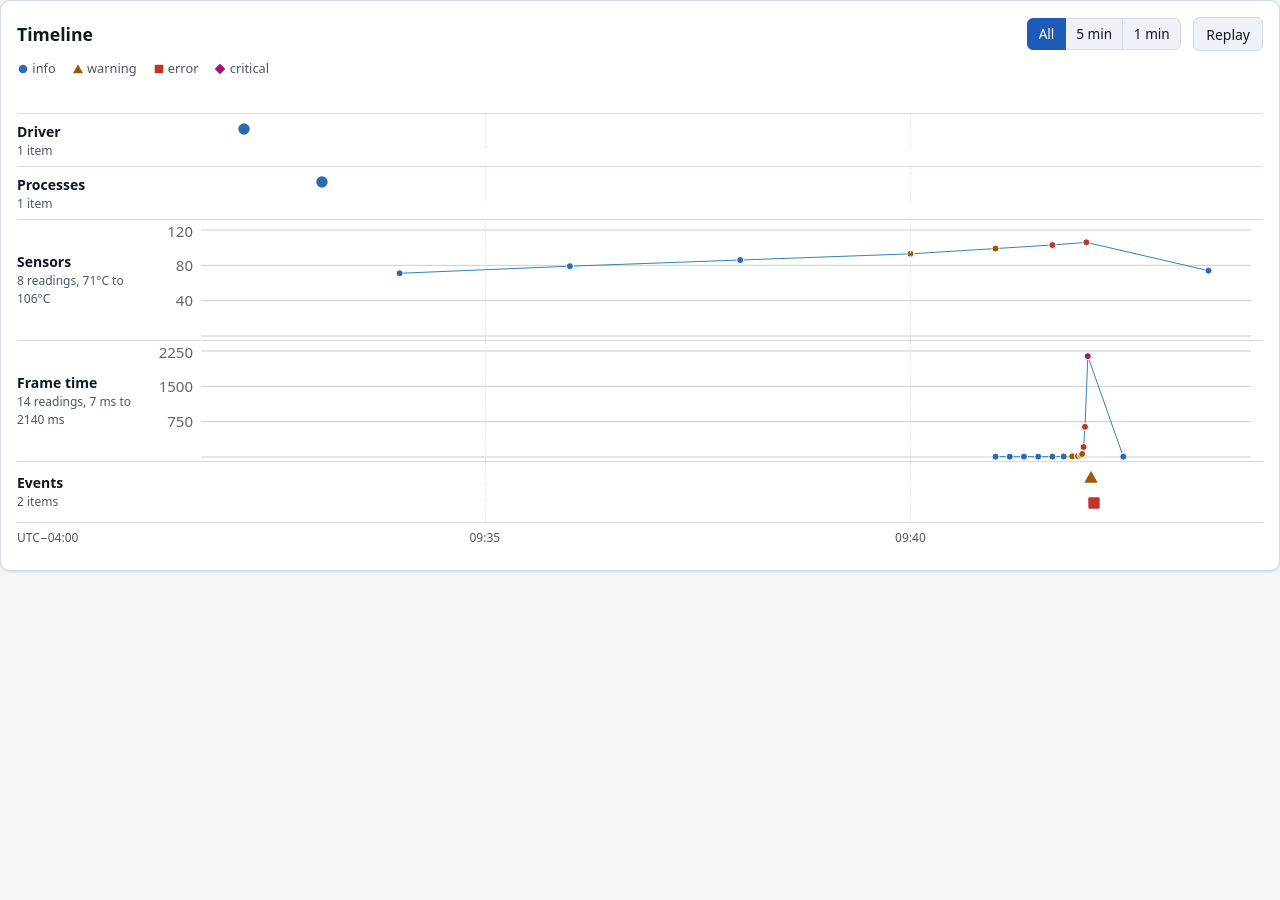
Test: <Timeline> › shows label, detail and evidence id in a tooltip on hover
Hover over the button named "LiveKernelEvent 141 (VIDEO_ENGINE_TIMEOUT_DETECTED), error,": [1094, 503] box x1=1082 y1=492 x2=1106 y2=514
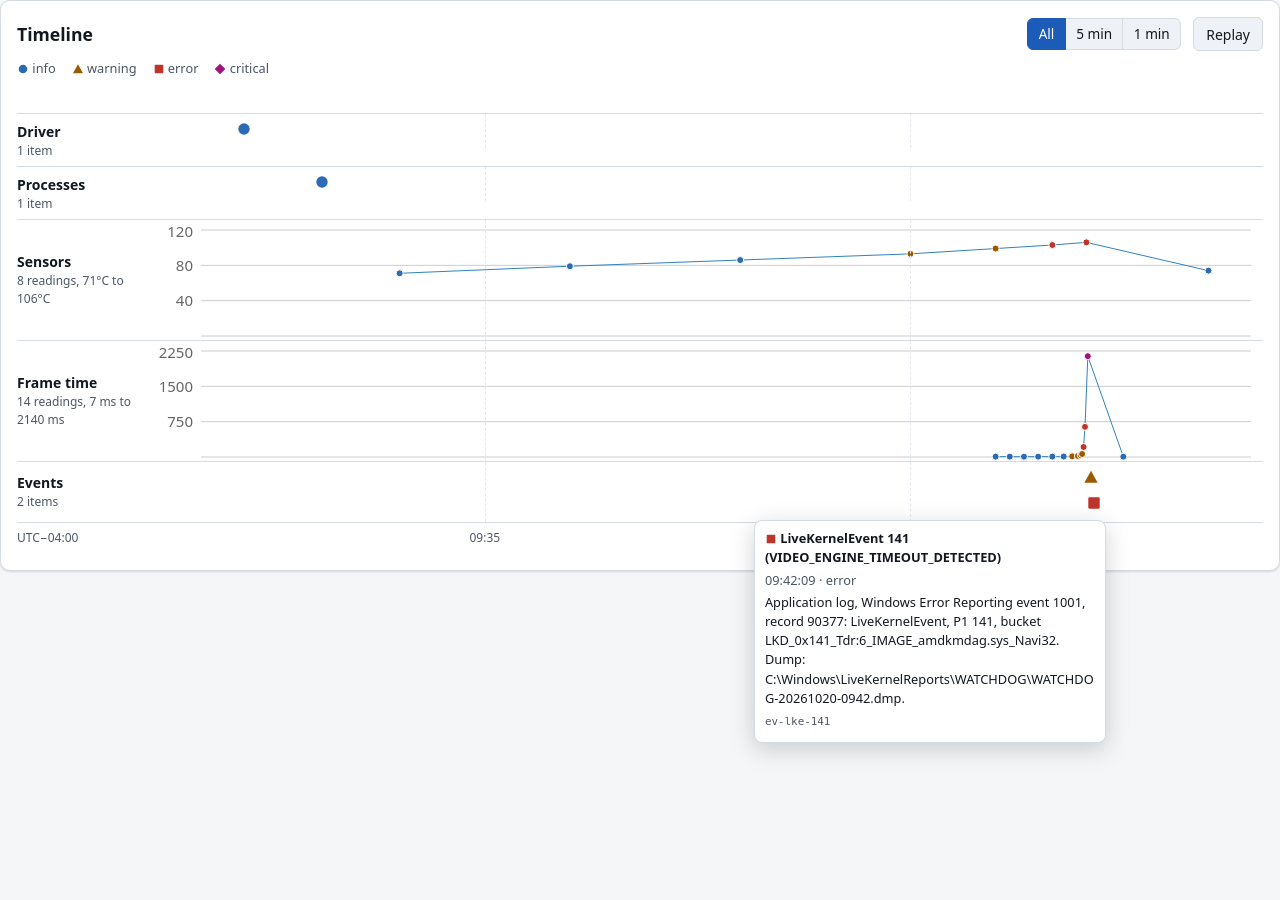
Check: the tooltip shows "LiveKernelEvent 141 (VIDEO_ENGINE_TIMEOUT_DETECTED)", box x1=765 y1=529 x2=1001 y2=566
Check: the tooltip shows "Windows Error Reporting event 1001", box x1=765 y1=593 x2=1094 y2=707
Check: the tooltip shows "ev-lke-141", box x1=765 y1=715 x2=830 y2=728
Move the pointer off the button named "LiveKernelEvent 141 (VIDEO_ENGINE_TIMEOUT_DETECTED), error,", box x1=1082 y1=492 x2=1106 y2=514
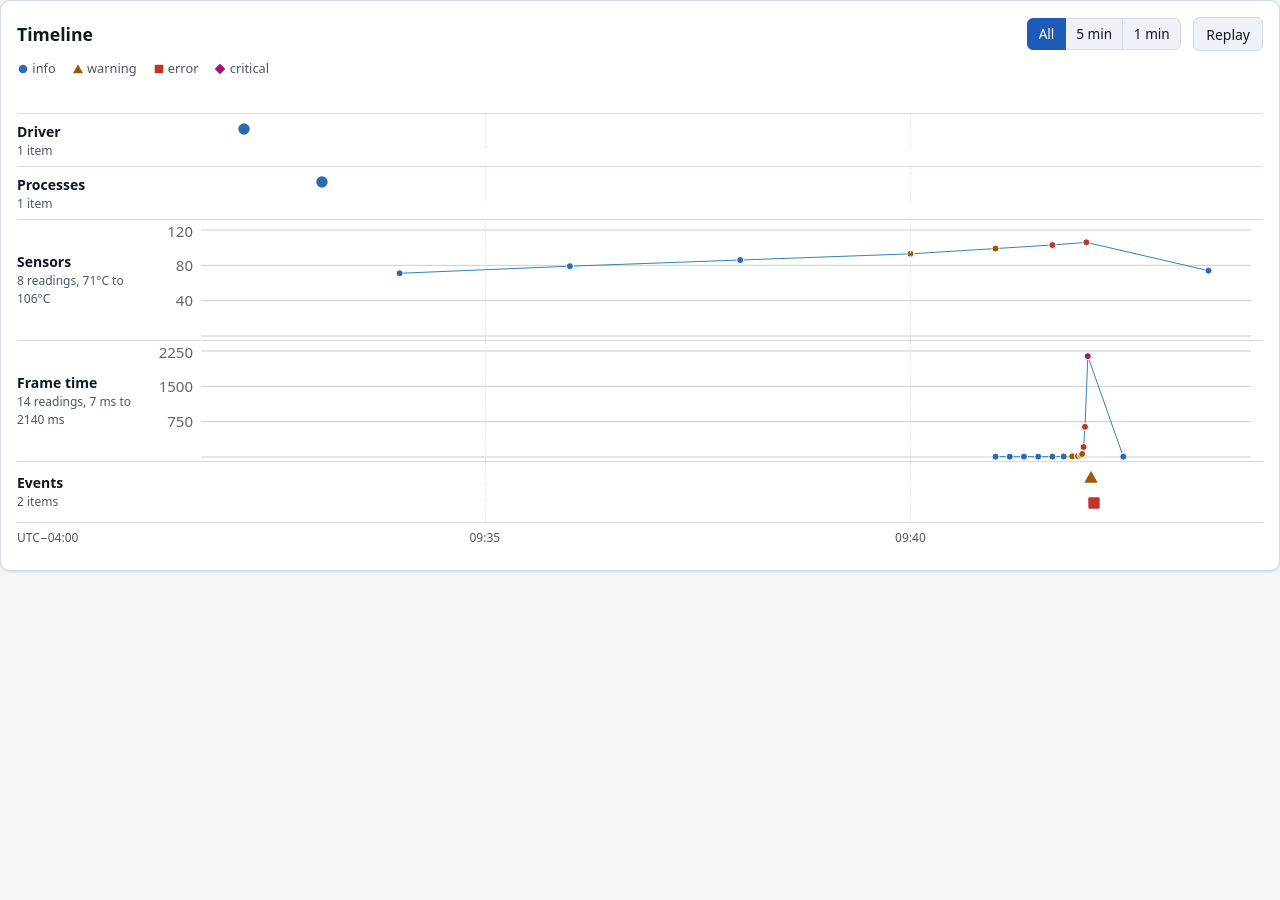
Check: the tooltip is gone
